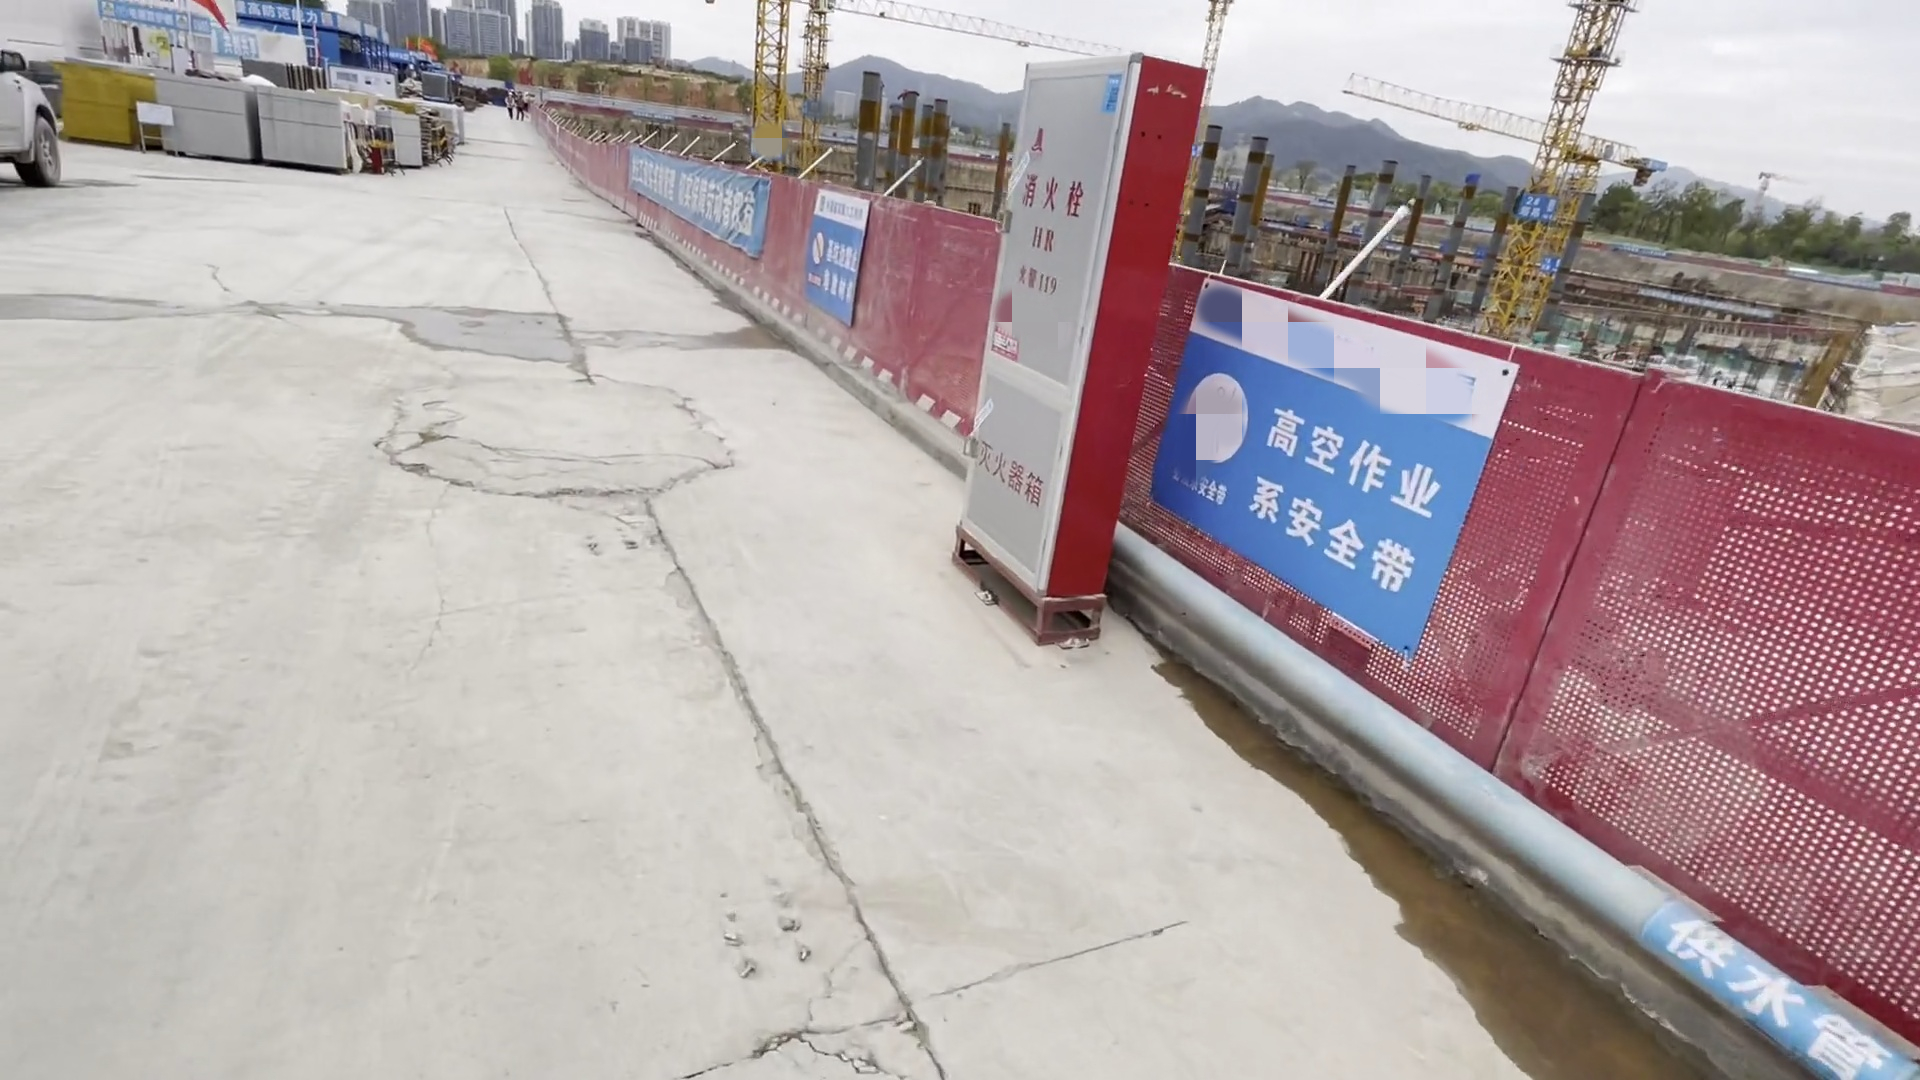brick: (146, 70, 353, 186), (373, 102, 427, 170)
fence: (1149, 287, 1920, 1022), (512, 113, 1014, 440)
slogan: (1182, 371, 1449, 622), (596, 152, 774, 237), (800, 224, 862, 311)
